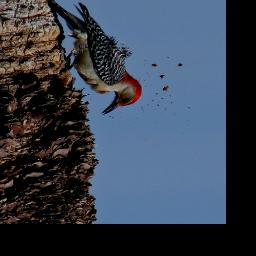Woodpecker: (45, 0, 144, 116)
